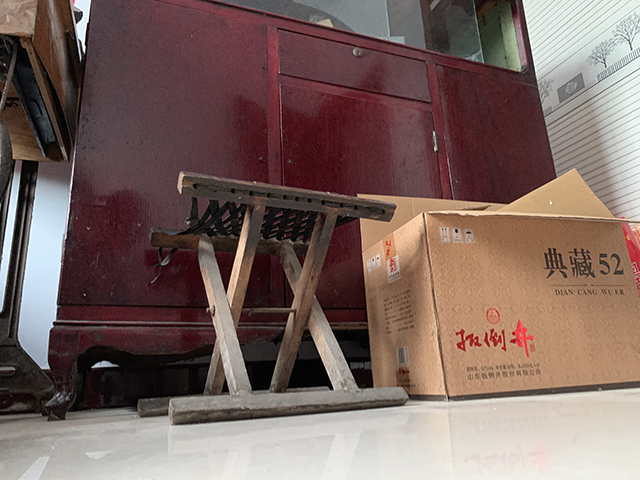cabinet: (38, 1, 558, 422)
stool: (132, 170, 412, 428)
